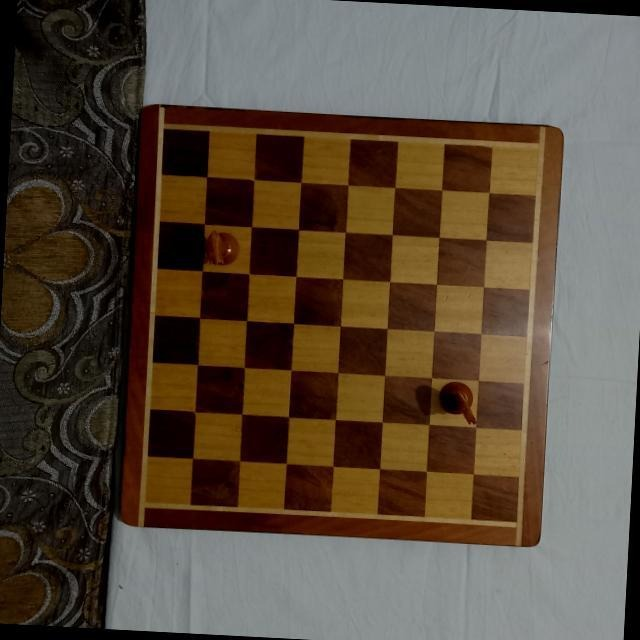white-knight: (435, 379, 480, 425), (204, 229, 240, 271)
